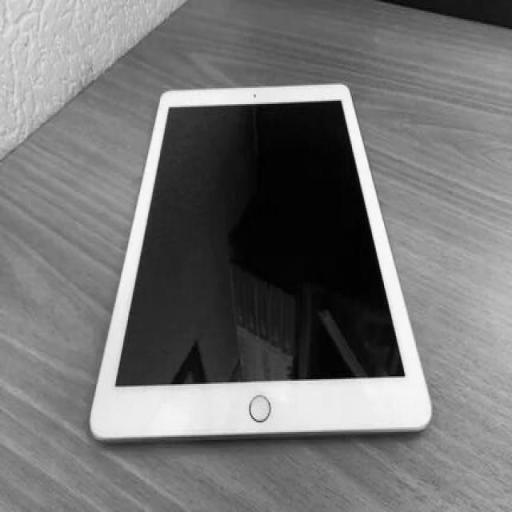phone: (85, 76, 442, 453)
